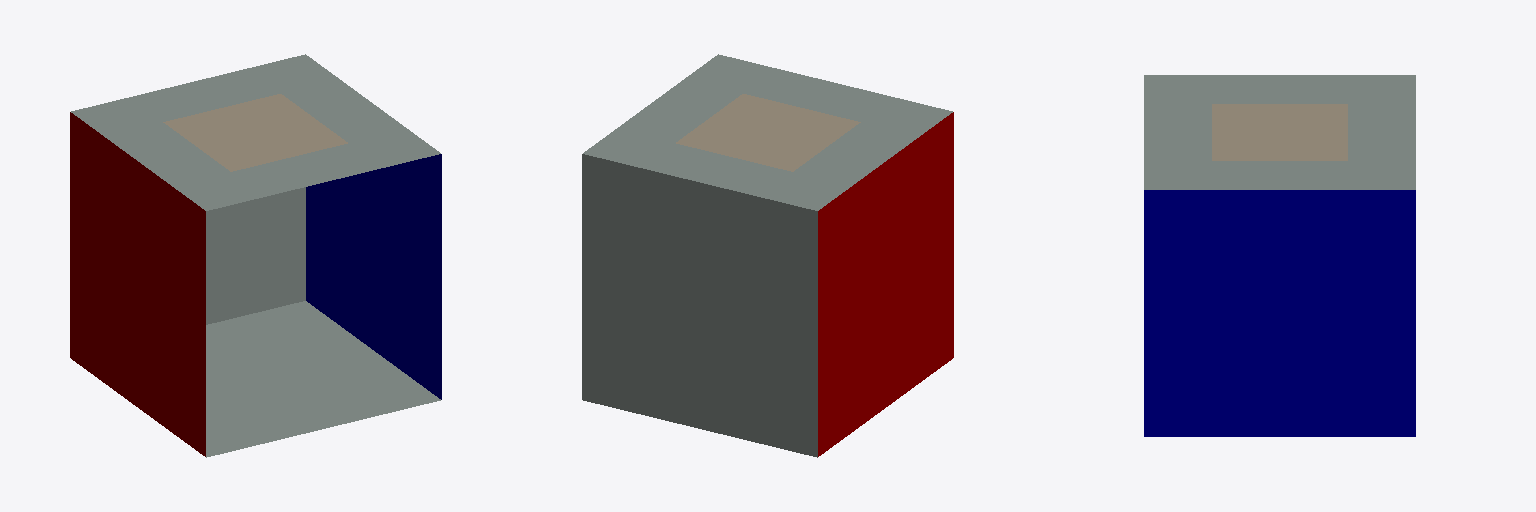
File: test_quads.obj
The picture shows the model from 3 angles: view 1: azimuth 30°, elevation 25°; view 2: azimuth 150°, elevation 25°; view 3: azimuth 270°, elevation 25°; orthographic projection.
Parts seen in each view (by area): view 1: Cube; view 2: Cube; view 3: Cube.
Boxes of the visible parts, x1,y1,x2,y2 form: Cube: [70, 54, 441, 457]; Cube: [582, 54, 953, 457]; Cube: [1144, 75, 1415, 436].
Size of the model in its own units: 2 by 2 by 2.